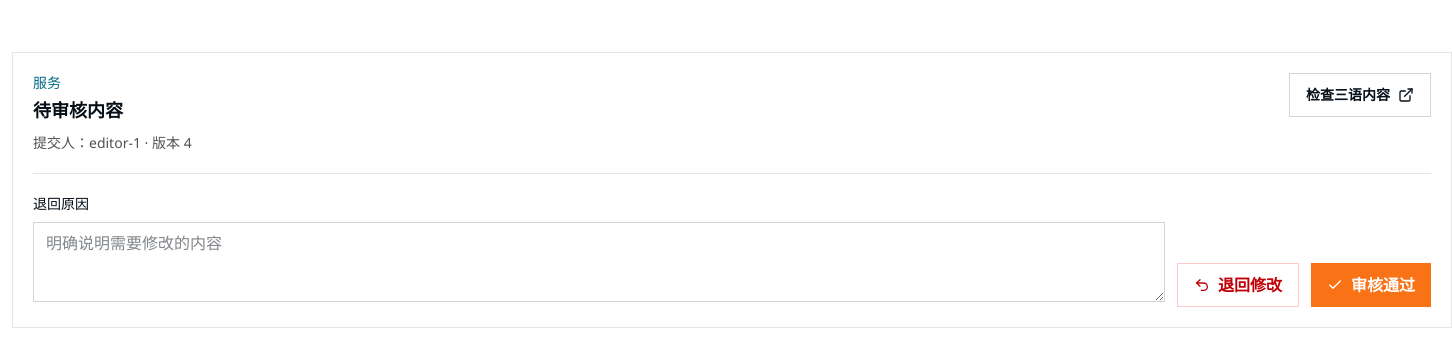
Test case: ReviewCenter › approves a versioned review and offers a content inspection link
Click the button "审核通过": (1371, 285) [1311,263,1431,307]
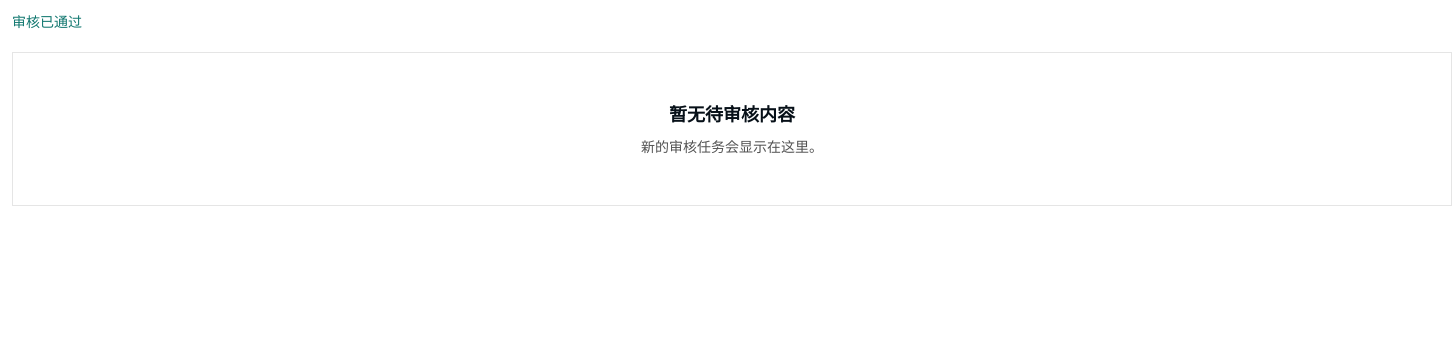
Result: the text "审核已通过" is shown at [12,12,82,31]
